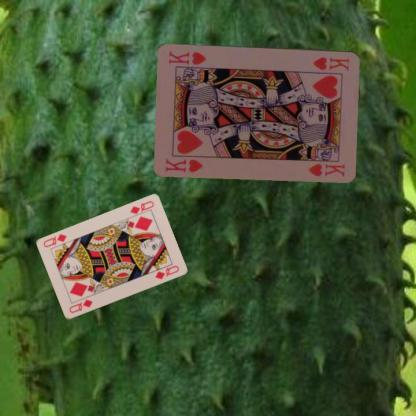Kh: (310, 54, 350, 72), (163, 156, 204, 173)
Qd: (127, 198, 156, 220), (66, 297, 94, 315)
